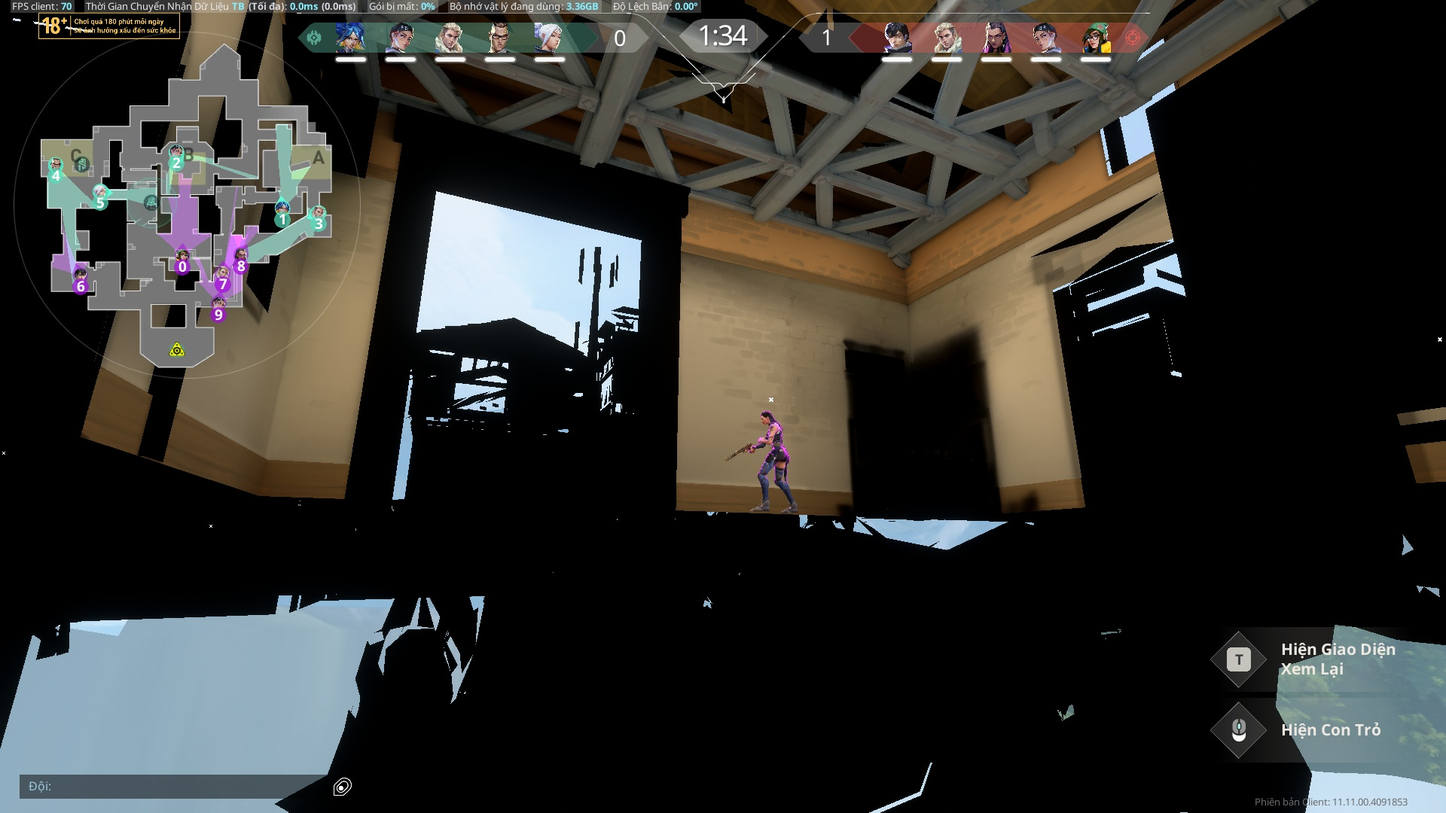body: (766, 422, 784, 445)
head: (760, 410, 773, 423)
